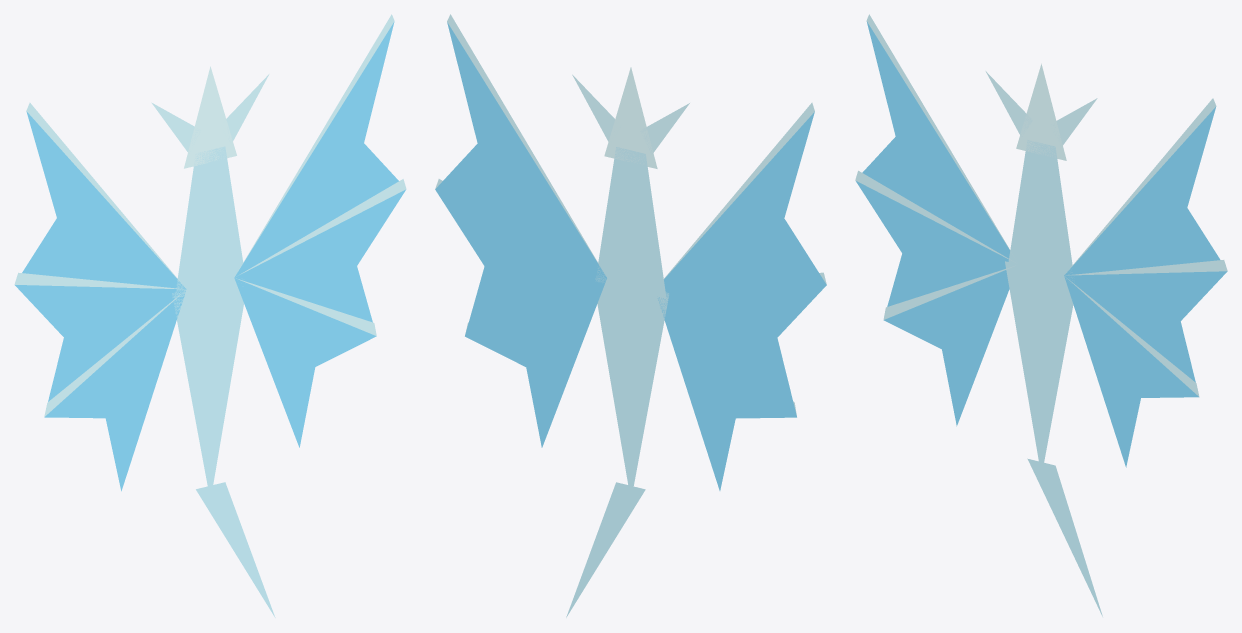
File: rune3_glow.glb
3 renders of one model, left to right at view 1: azimuth 30°, elevation 25°; view 2: azimuth 150°, elevation 25°; view 3: azimuth 330°, elevation 25°, orthographic. The views are drawn at different scales.
Visible parts, largest first — view 1: rune3_glow; view 2: rune3_glow; view 3: rune3_glow.
Boxes of the visible parts, x1=… form: rune3_glow: x1=14, y1=14, x2=406, y2=617; rune3_glow: x1=435, y1=14, x2=826, y2=617; rune3_glow: x1=855, y1=14, x2=1227, y2=616.
Bounding box in the file's own units: 1.32 × 1.86 × 0.002.
1 material, 1 textured.
